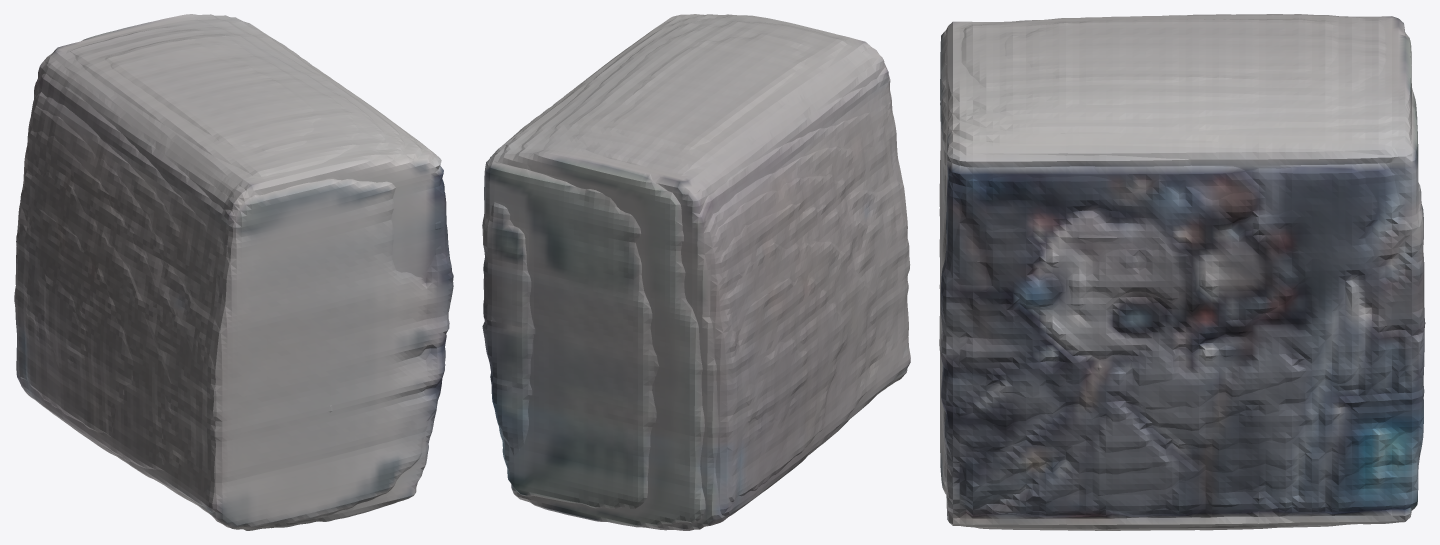
File: worker-bot-round.glb
3 renders of one model, left to right at view 1: azimuth 30°, elevation 25°; view 2: azimuth 150°, elevation 25°; view 3: azimuth 270°, elevation 25°, orthographic. The views are drawn at different scales.
Parts seen in each view (by area): view 1: world; view 2: world; view 3: world.
Boxes of the visible parts, bbox=[...] form: world: bbox=[14, 14, 453, 530]; world: bbox=[482, 14, 910, 530]; world: bbox=[939, 14, 1425, 530].
Size of the model in its own units: 0.7299 by 1 by 1.
